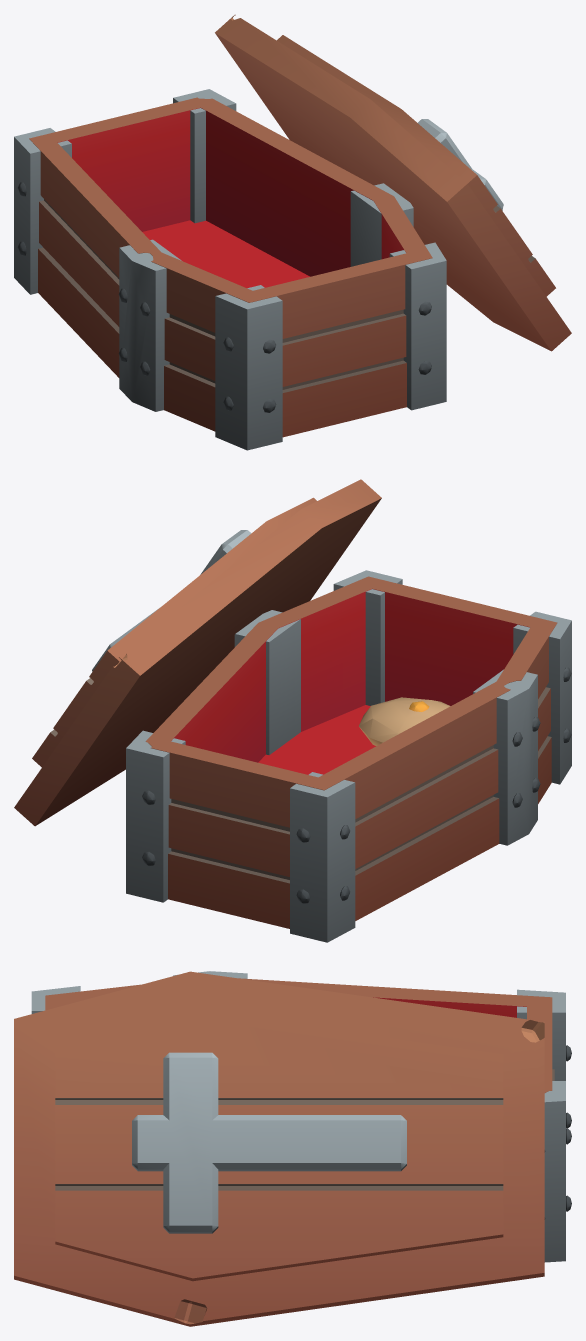
The model's file is coffin_open.glb.
The picture shows the model from 3 angles, top to bottom: view 1: azimuth 30°, elevation 25°; view 2: azimuth 150°, elevation 25°; view 3: azimuth 270°, elevation 25°; orthographic projection. The views are drawn at different scales.
Parts seen in each view (by area): view 1: coffin_open; view 2: coffin_open; view 3: coffin_open.
Part boxes in pixels (left/top/right/bottom): coffin_open: left=14, top=14, right=571, bottom=450; coffin_open: left=14, top=479, right=571, bottom=942; coffin_open: left=14, top=971, right=571, bottom=1326.
Bounding box in the file's own units: 2.5 × 1.61 × 2.84.
Materials: 1 (1 with a texture image).
